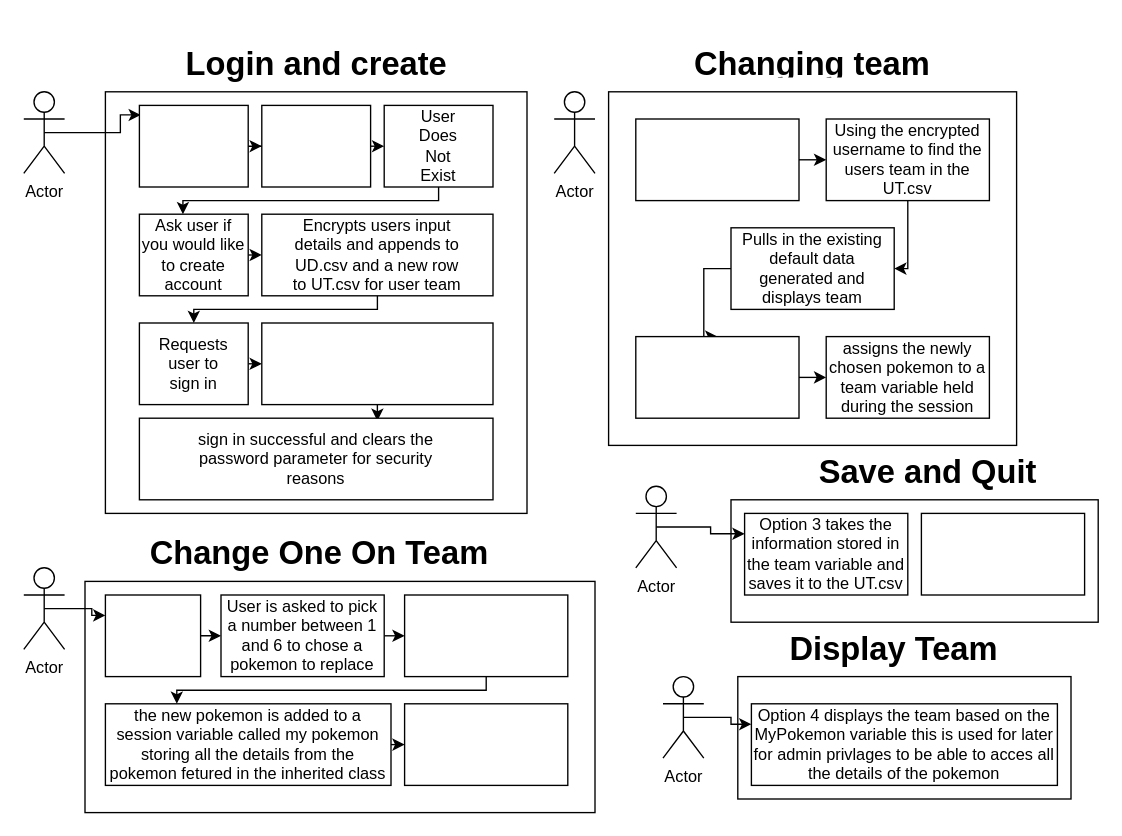
Image size: 1122x836. Some labels were removed from this diagram. Each missing label, with the box of its shape:
After the information is saved the application closes: (920, 512, 1085, 595)
Encrypts the input details to test on the stored UD.csv.: (260, 322, 493, 405)
Enter User Details: (138, 104, 248, 187)
Option 2 changes a single team member: (104, 594, 201, 677)
requested user to pick from a list of pokemon by number for 6 iterations: (634, 335, 799, 418)
Search UD.csv for user: (260, 104, 371, 187)
the number of the selected pokemon is added to the team variable of the sesion: (403, 702, 568, 785)
The User is displayed with 5 options. option one is change entire team: (634, 118, 799, 201)
the user is prompted to chose a pokemon from a list to be the new pokemon: (403, 594, 568, 677)
